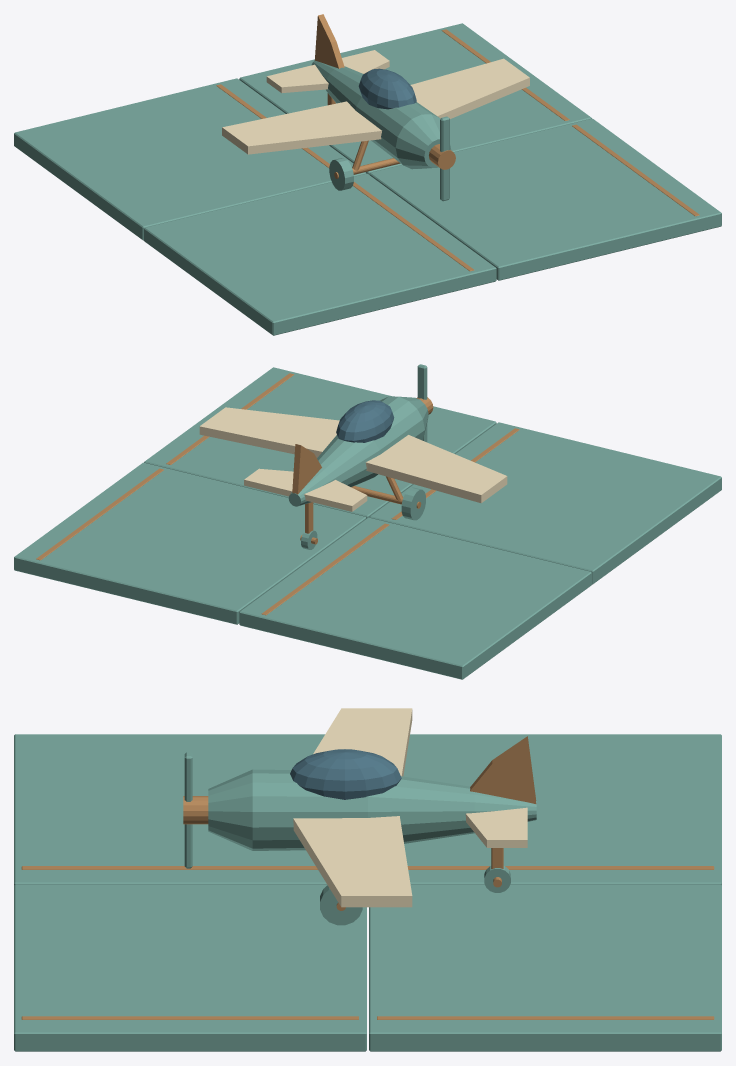
3 renders of one model, top to bottom at view 1: azimuth 30°, elevation 25°; view 2: azimuth 150°, elevation 25°; view 3: azimuth 270°, elevation 25°, orthographic. The views are drawn at different scales.
Visible parts, largest first — view 1: aviation-parking-corner-scene-01; view 2: aviation-parking-corner-scene-01; view 3: aviation-parking-corner-scene-01.
Part boxes in pixels (x1,y1,x2,y2): aviation-parking-corner-scene-01: (14,14,721,335); aviation-parking-corner-scene-01: (14,364,721,679); aviation-parking-corner-scene-01: (14,708,721,1051).
Bounding box in the file's own units: 3.99 × 1.07 × 3.99.
